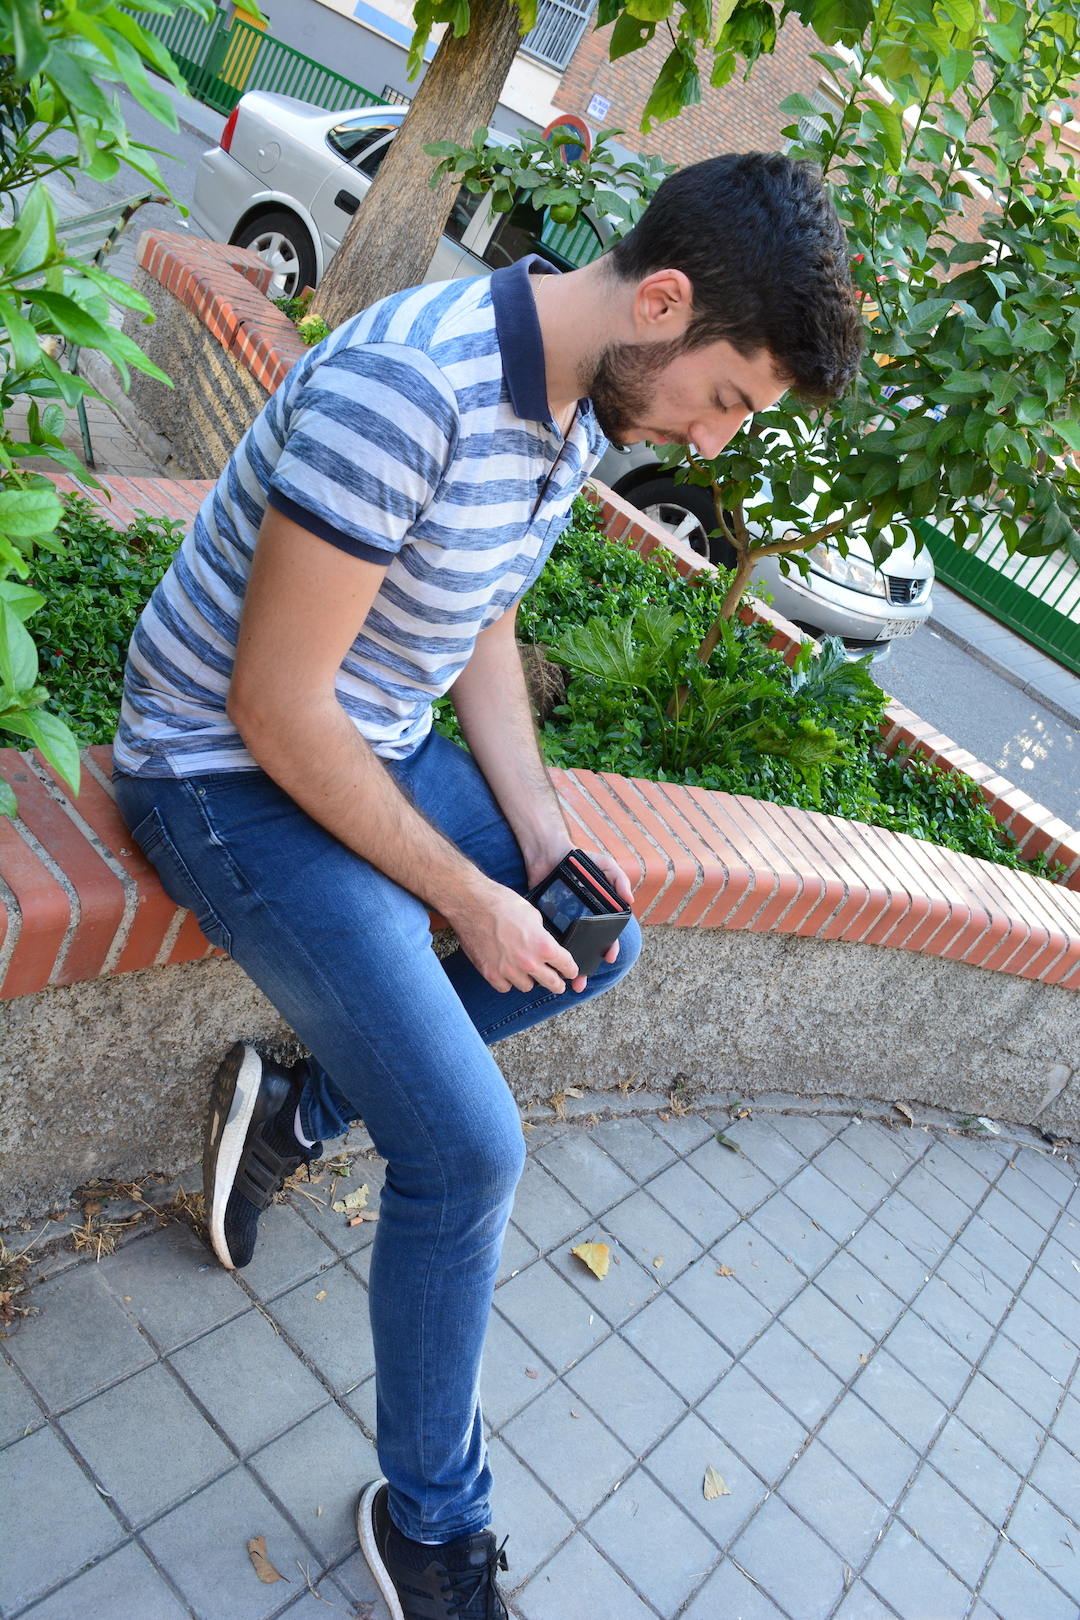monedero: (526, 849, 632, 976)
